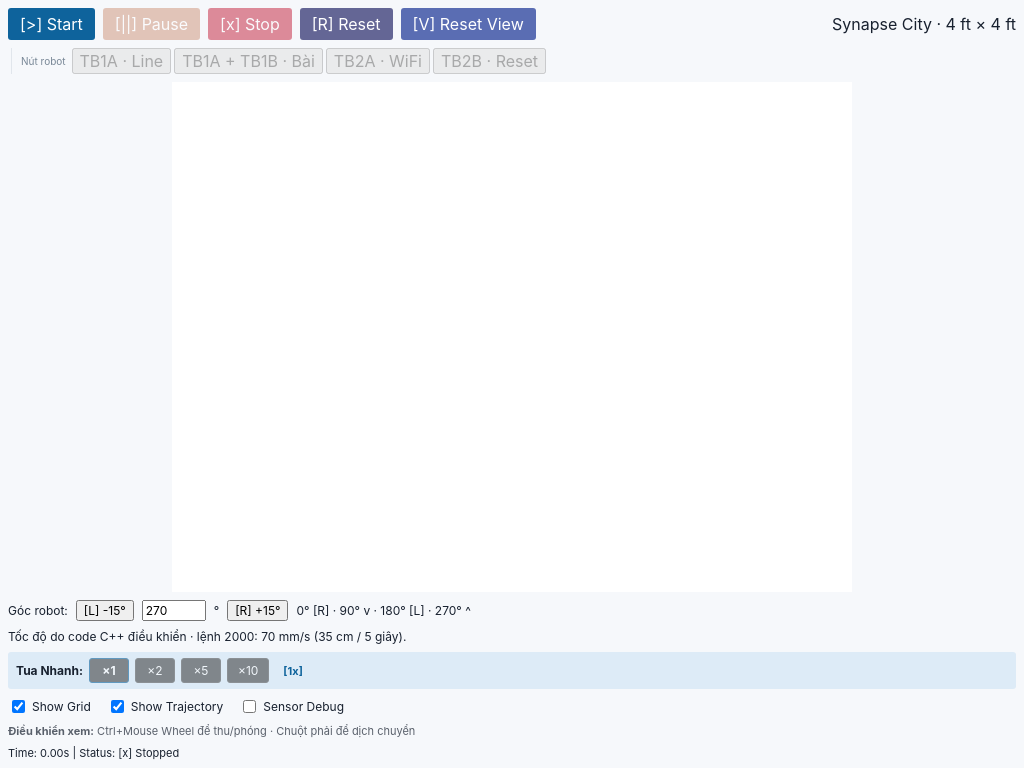
it: dispatches base touch buttons from the standalone simulator panel
The width and height of the screenshot is (1024, 768).
Expected: the button "TB1A + TB1B · Bài" is disabled, [174,48,323,74]
Click the button "[>] Start". click: (51,24)
box: [8,8,95,40]
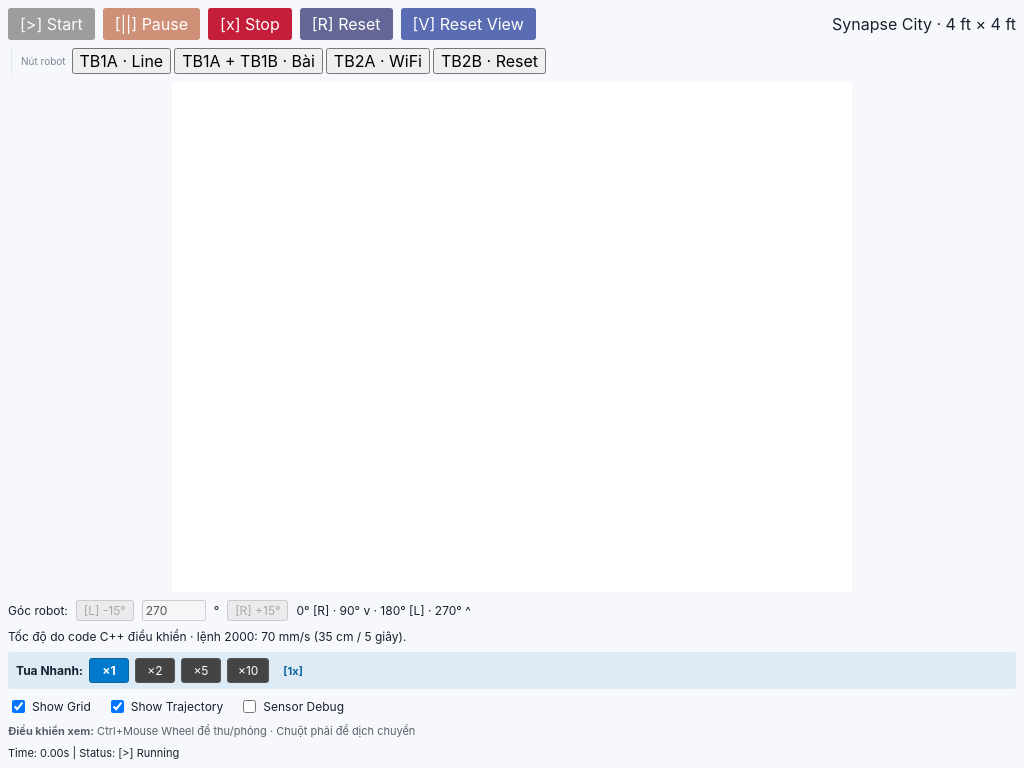
Click the button "TB1A + TB1B · Bài". click: (248,61)
box: [174,48,323,74]
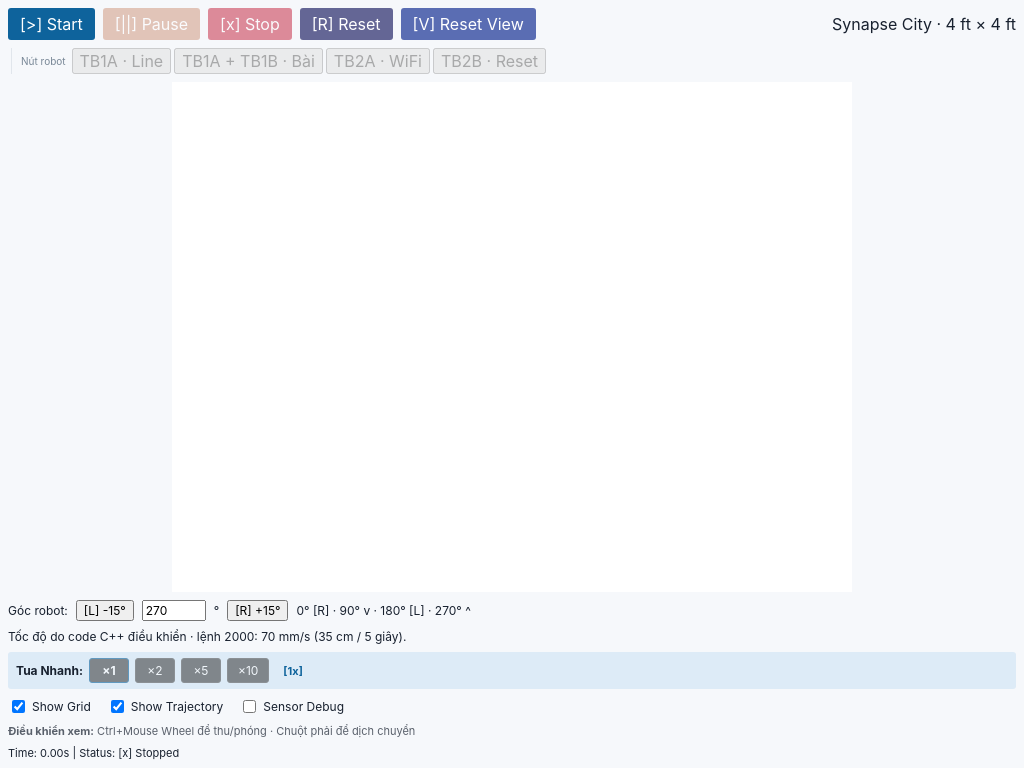
Expected: the button "TB1A + TB1B · Bài" is disabled, [174,48,323,74]
Expected: the button "[>] Start" is enabled, [8,8,95,40]
